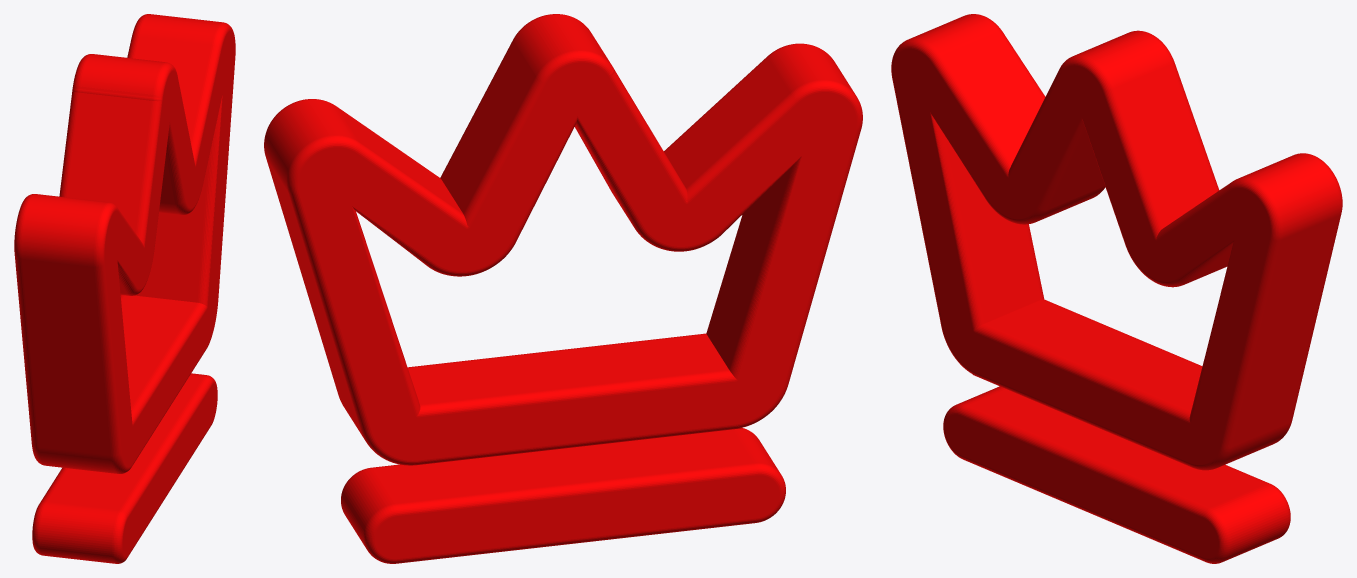
File: modelpremium.glb
The picture shows the model from 3 angles, left to right: view 1: azimuth 30°, elevation 25°; view 2: azimuth 150°, elevation 25°; view 3: azimuth 270°, elevation 25°; orthographic projection. The views are drawn at different scales.
Parts seen in each view (by area): view 1: mesh_1, mesh_0; view 2: mesh_1, mesh_0; view 3: mesh_1, mesh_0.
Part boxes in pixels (x1,y1,x2,y2): mesh_1: [14, 14, 235, 473]; mesh_0: [32, 373, 217, 563]; mesh_1: [264, 14, 862, 465]; mesh_0: [341, 428, 785, 563]; mesh_1: [891, 14, 1342, 470]; mesh_0: [943, 386, 1290, 563].
Size of the model in its own units: 83.46 by 92.57 by 83.46.
